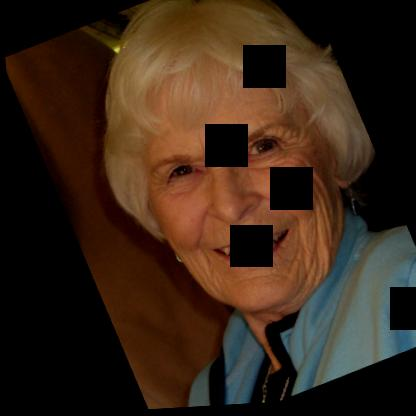Female: (102, 33, 385, 334)
